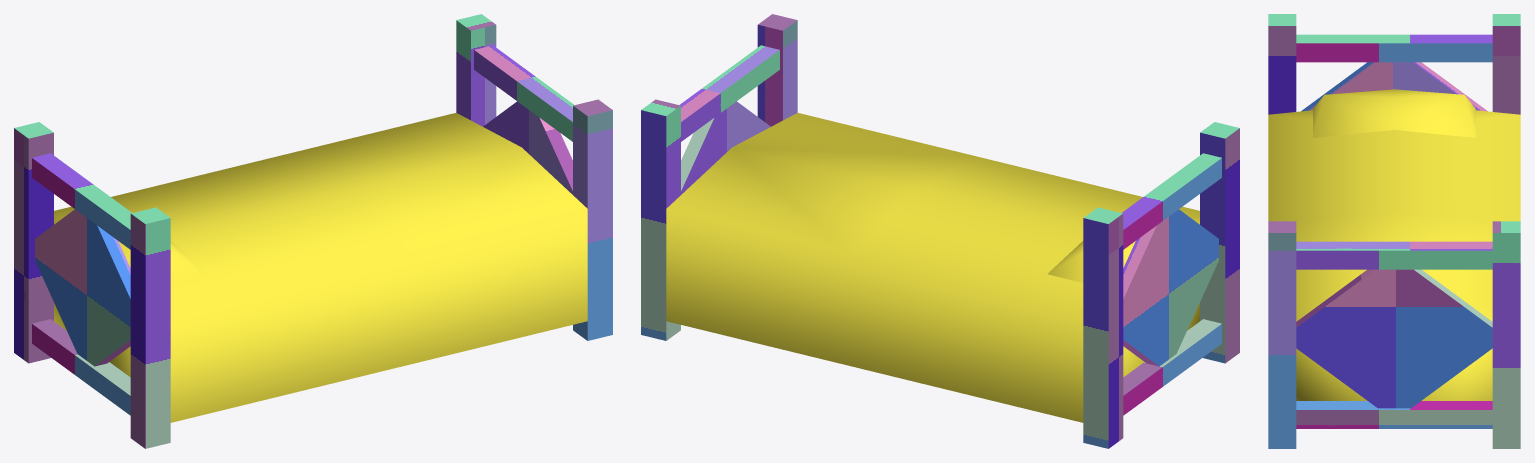
The model's file is rmk_blu_bedS_jwl.dae.
3 renders of one model, left to right at view 1: azimuth 30°, elevation 25°; view 2: azimuth 150°, elevation 25°; view 3: azimuth 270°, elevation 25°, orthographic. The views are drawn at different scales.
Parts seen in each view (by area): view 1: rmk_blu_bedS_jwl; view 2: rmk_blu_bedS_jwl; view 3: rmk_blu_bedS_jwl.
Boxes of the visible parts, x1,y1,x2,y2 form: rmk_blu_bedS_jwl: (14,14,612,448); rmk_blu_bedS_jwl: (641,14,1239,448); rmk_blu_bedS_jwl: (1268,14,1520,448).
Bounding box in the file's own units: 59.2 × 27.2 × 28.8.
2 materials, 2 textured.
